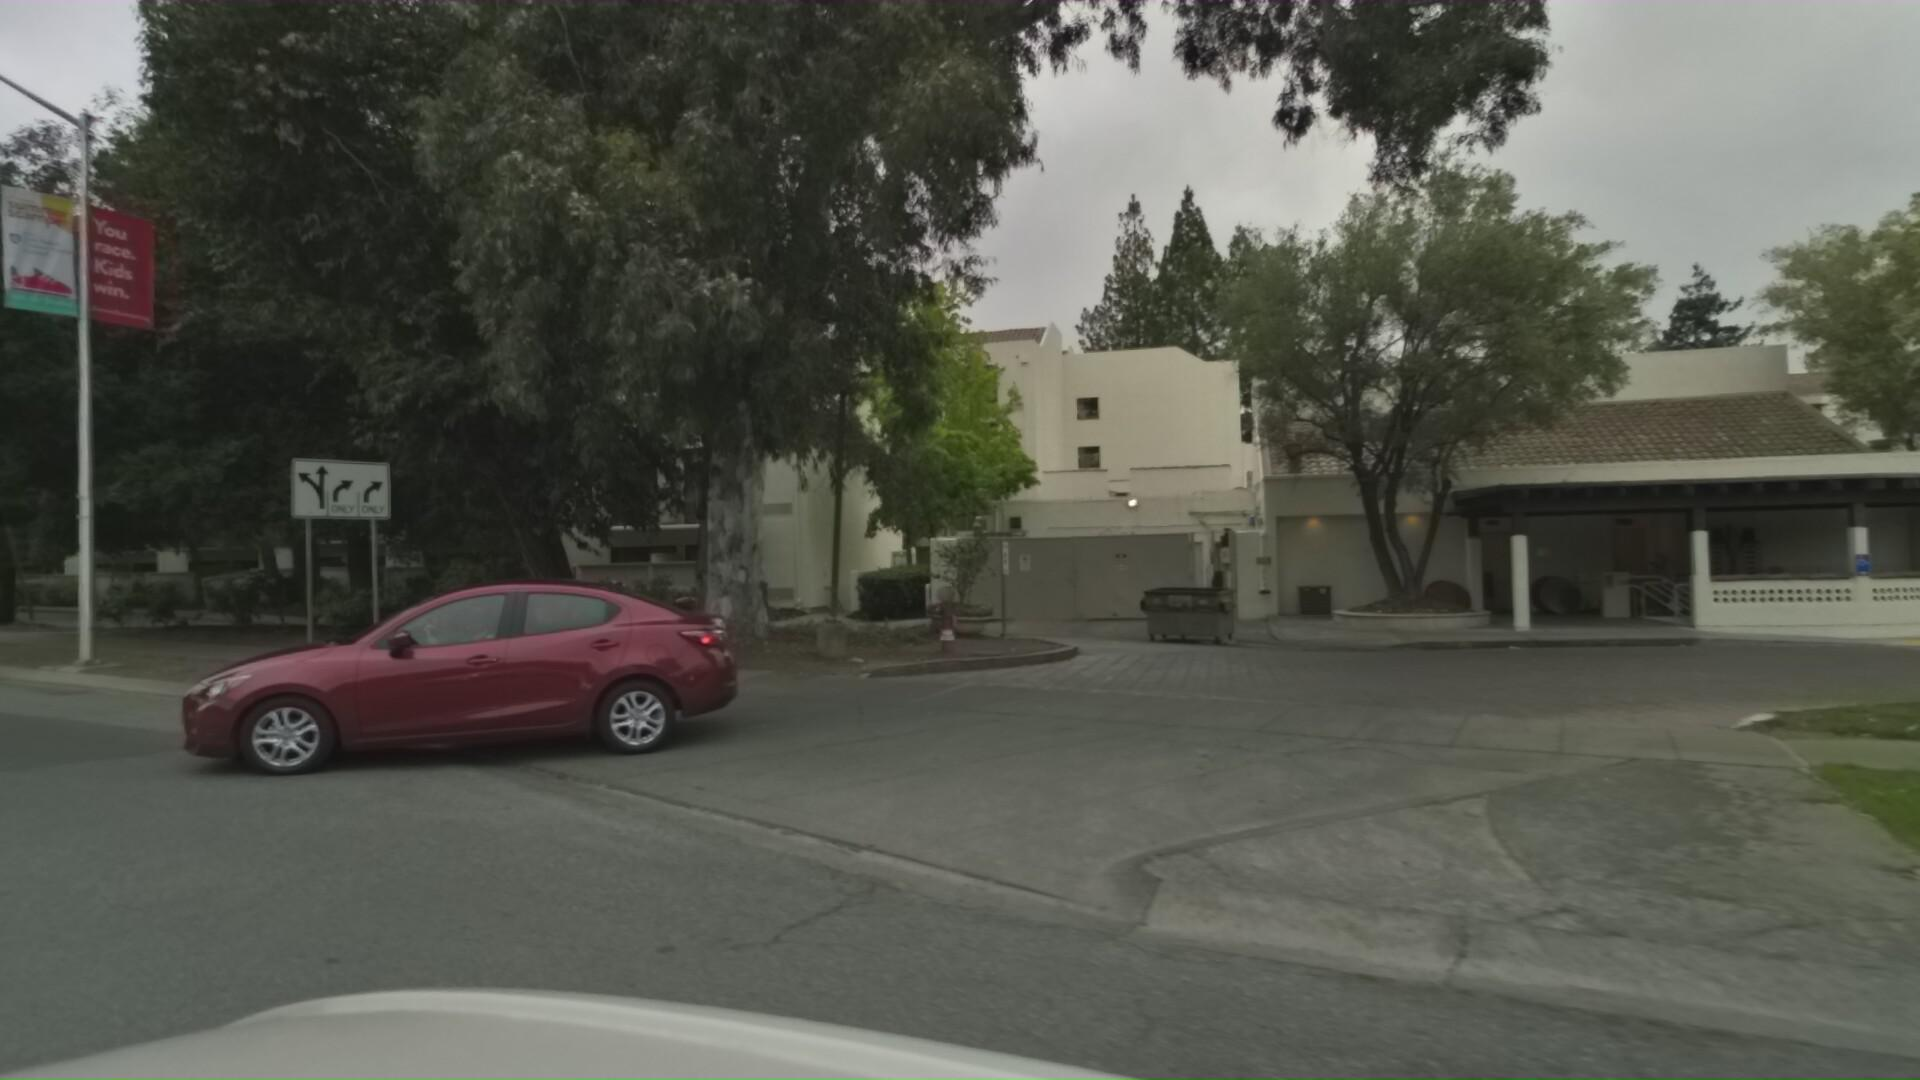car: (170, 574, 785, 822)
